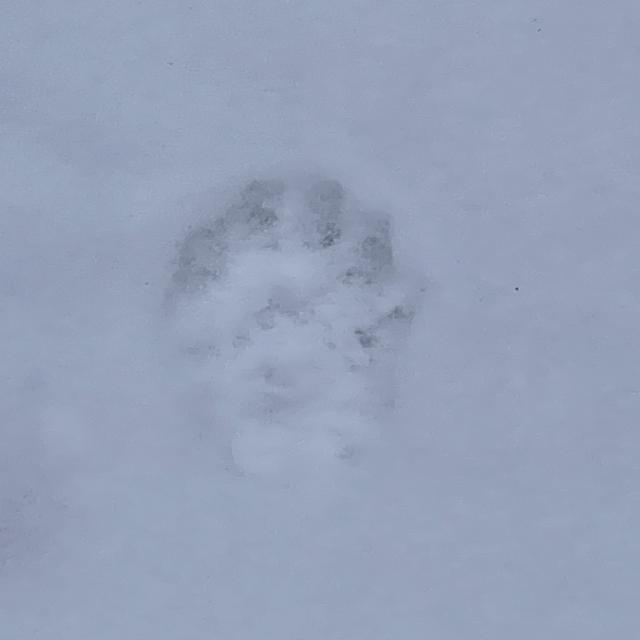mustelid: (166, 173, 424, 470)
